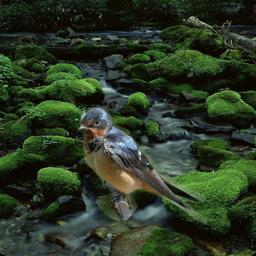Swallow: (77, 107, 207, 225)
